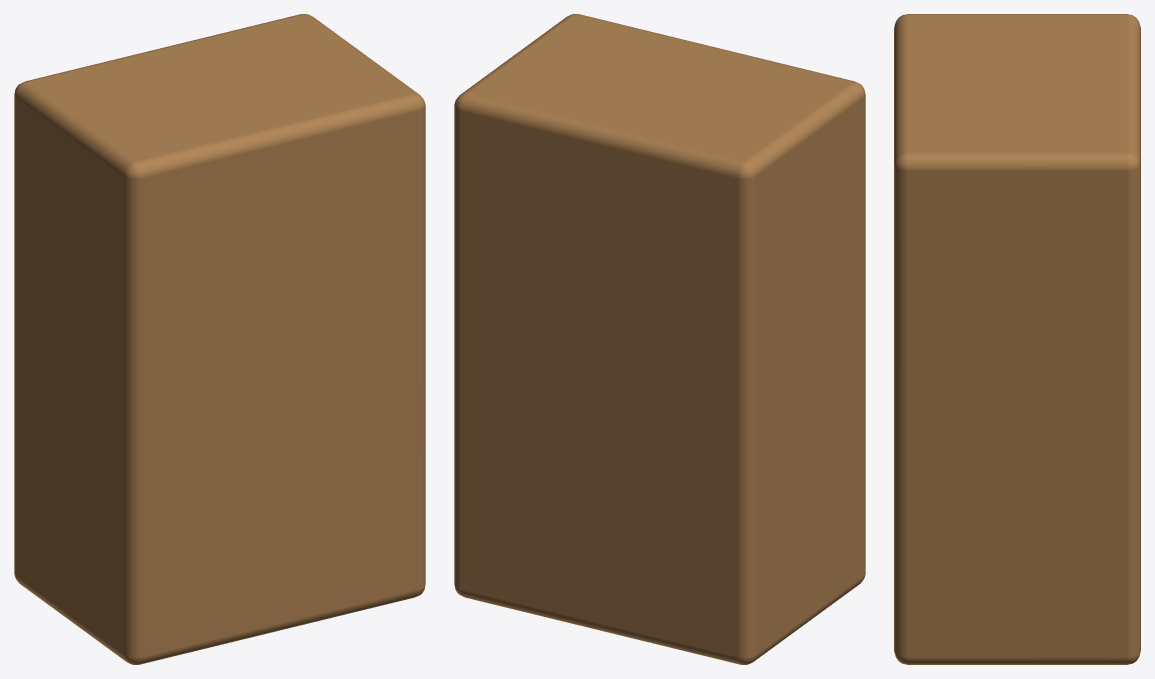
The picture shows the model from 3 angles, left to right: view 1: azimuth 30°, elevation 25°; view 2: azimuth 150°, elevation 25°; view 3: azimuth 270°, elevation 25°; orthographic projection.
Parts seen in each view (by area): view 1: chapter-4; view 2: chapter-4; view 3: chapter-4.
Part boxes in pixels (x1,y1,x2,y2): chapter-4: (14,14,425,664); chapter-4: (454,14,865,664); chapter-4: (894,14,1140,664).
Bounding box in the file's own units: 1.25 × 2 × 0.875.
